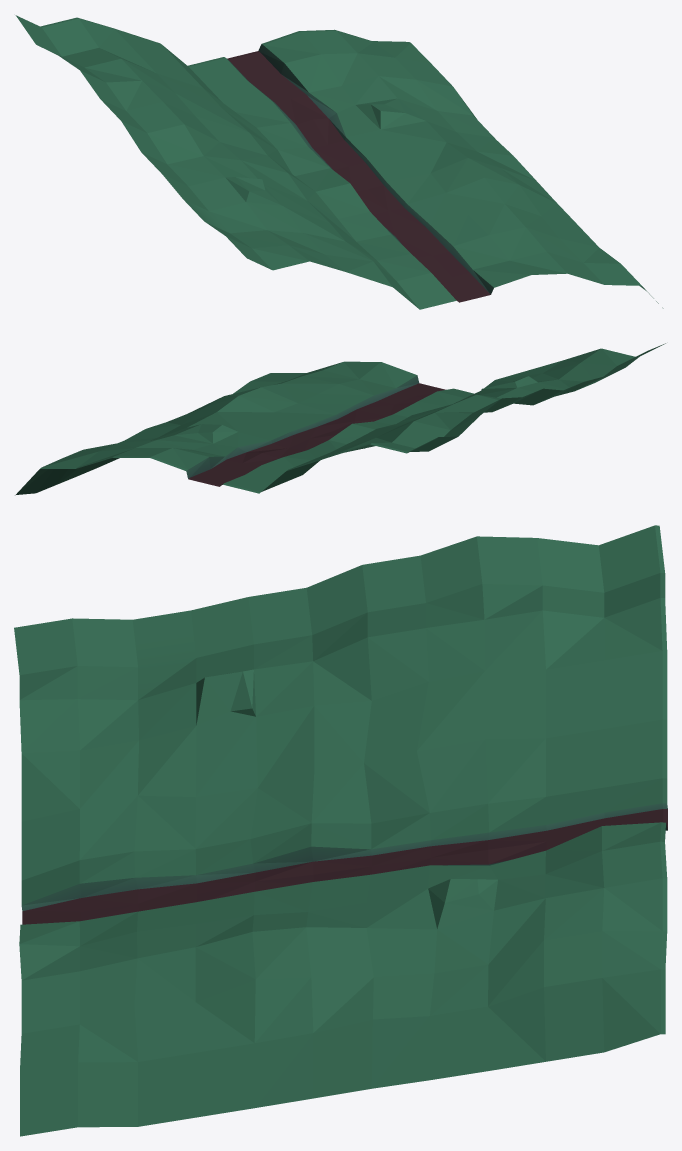
File: groundPlane_2_10.glb
3 views of the same model, one above another, from view 1: azimuth 30°, elevation 25°; view 2: azimuth 150°, elevation 25°; view 3: azimuth 270°, elevation 25° (orthographic). The views are drawn at different scales.
Parts seen in each view (by area): view 1: groundPlane_2_10; view 2: groundPlane_2_10; view 3: groundPlane_2_10.
Part boxes in pixels (x1,y1,x2,y2): groundPlane_2_10: (15,15,663,309); groundPlane_2_10: (15,343,665,495); groundPlane_2_10: (14,525,667,1136).
Bounding box in the file's own units: 104 × 55.03 × 100.
Materials: 1 (1 with a texture image).
